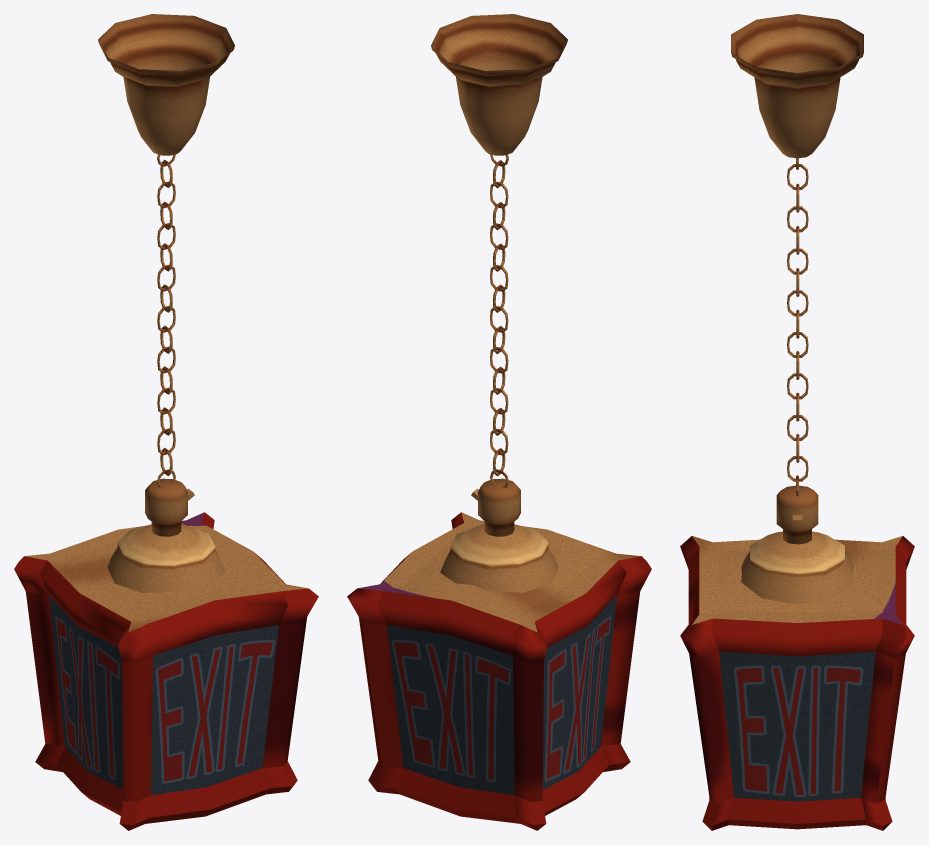
Rendered from ExitLamp.fbx.
3 views of the same model, side by side, from view 1: azimuth 30°, elevation 25°; view 2: azimuth 150°, elevation 25°; view 3: azimuth 270°, elevation 25° (orthographic).
Visible parts, largest first — view 1: ExitLight, CeilingBit, JoinyBit; view 2: ExitLight, CeilingBit, JoinyBit; view 3: ExitLight, CeilingBit, JoinyBit.
Part boxes in pixels (x1,y1,x2,y2): ExitLight: (14, 512, 318, 830); CeilingBit: (98, 14, 234, 155); JoinyBit: (107, 478, 225, 592); ExitLight: (347, 512, 651, 830); CeilingBit: (431, 14, 567, 155); JoinyBit: (440, 478, 558, 592); ExitLight: (680, 536, 914, 830); CeilingBit: (731, 14, 863, 158); JoinyBit: (741, 485, 853, 604).
Size of the model in its own units: 3.79 by 13.47 by 3.79.
